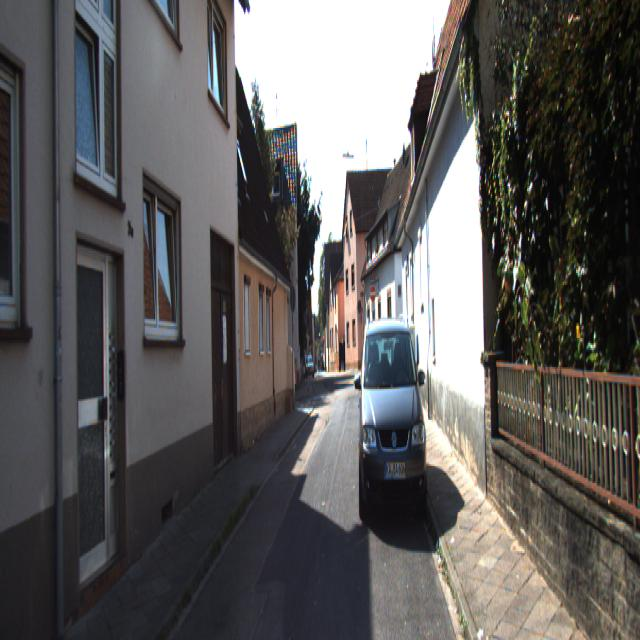Car: (356, 312, 430, 532)
